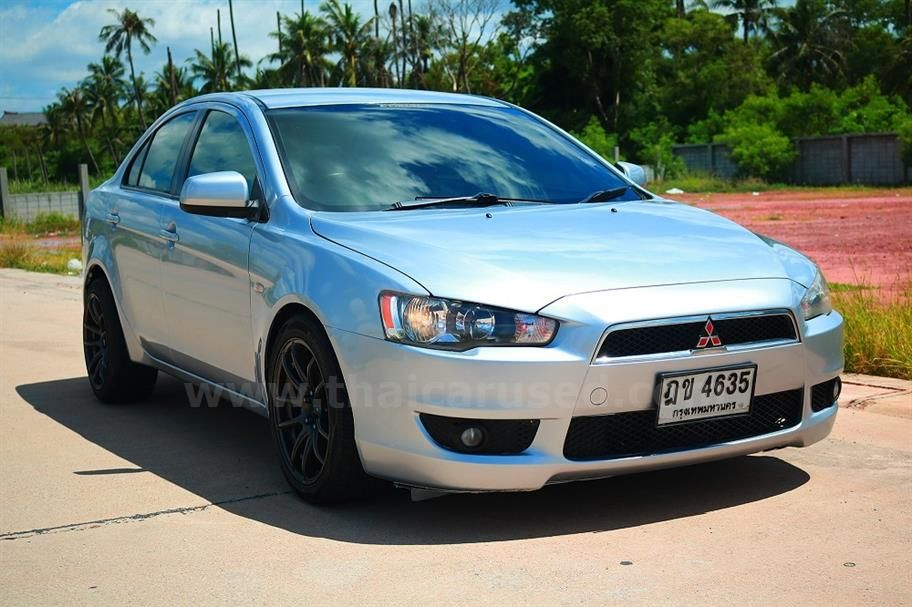sedan: (81, 84, 847, 511)
